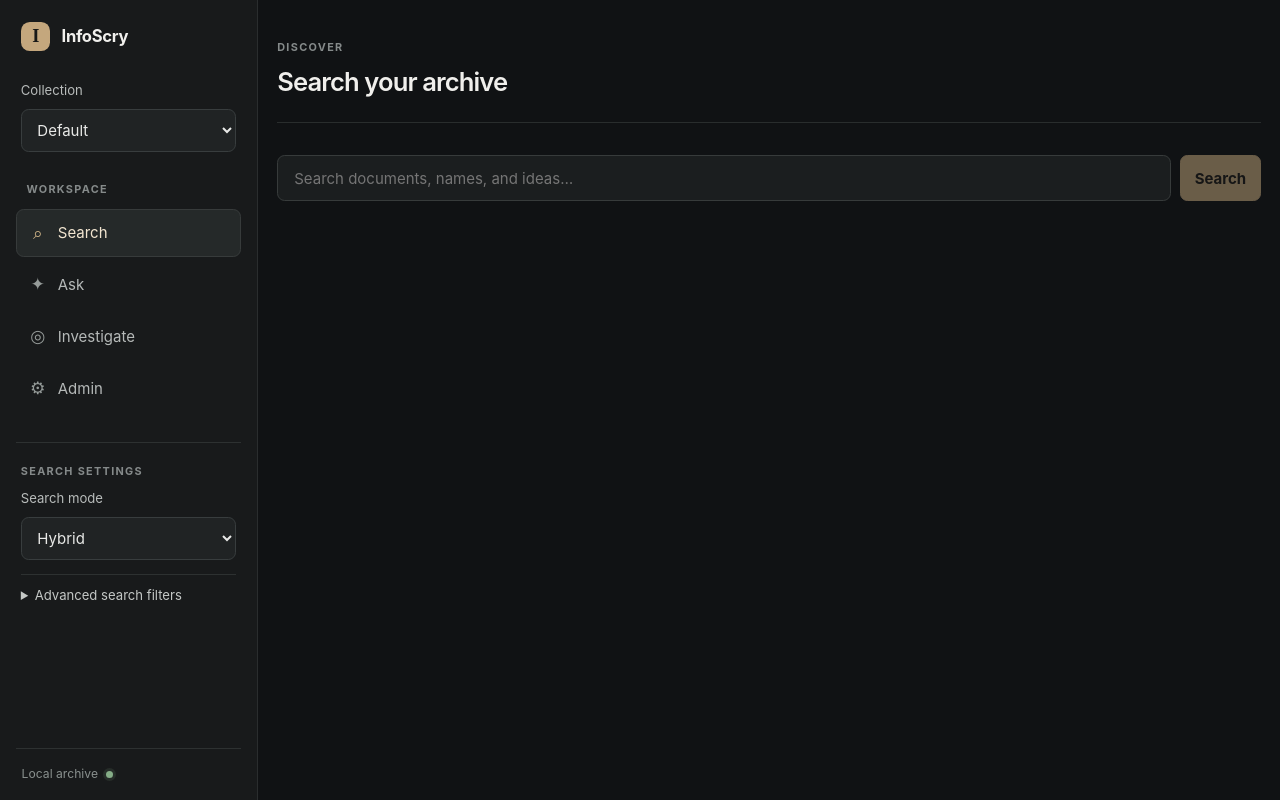
Test: app shell › provides the shared workspace hook across mode changes without replacing navigation
Step 1. Click the tab "⚙ Admin" → x=128, y=388, box [16,364,241,413]
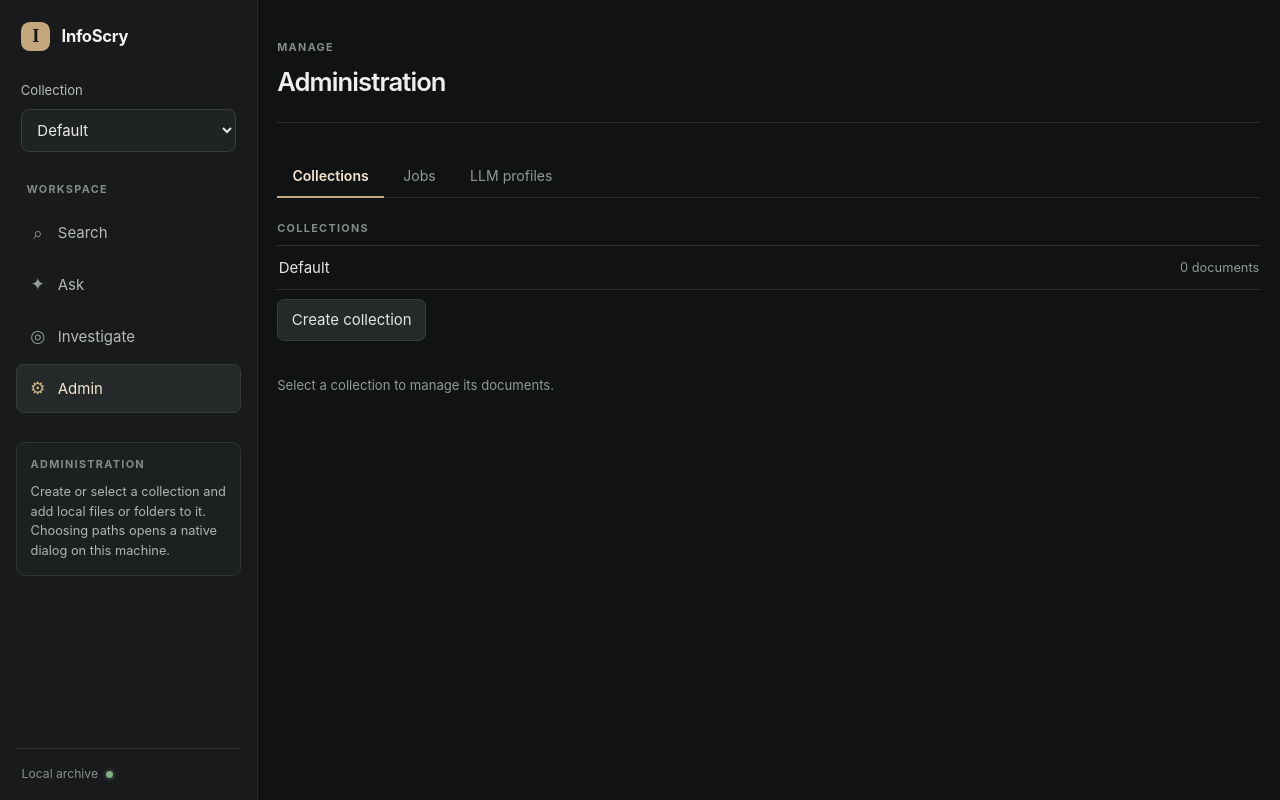
Now the element named "Administration section" is shown, box [277,155,1261,198]
Step 2. Click the tab "⌕ Search" → x=128, y=233, box [16,209,241,257]
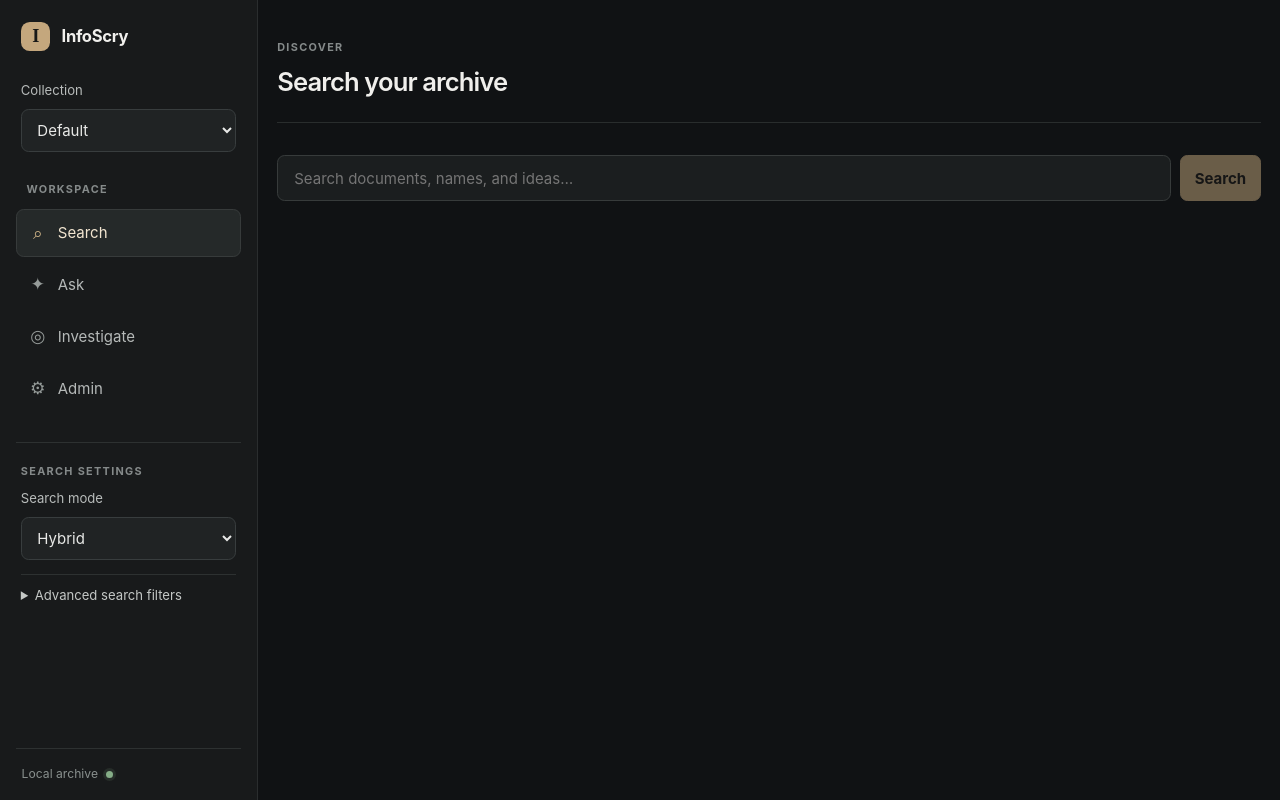
Now the field named "Search query" is shown, box [277,155,1171,202]
